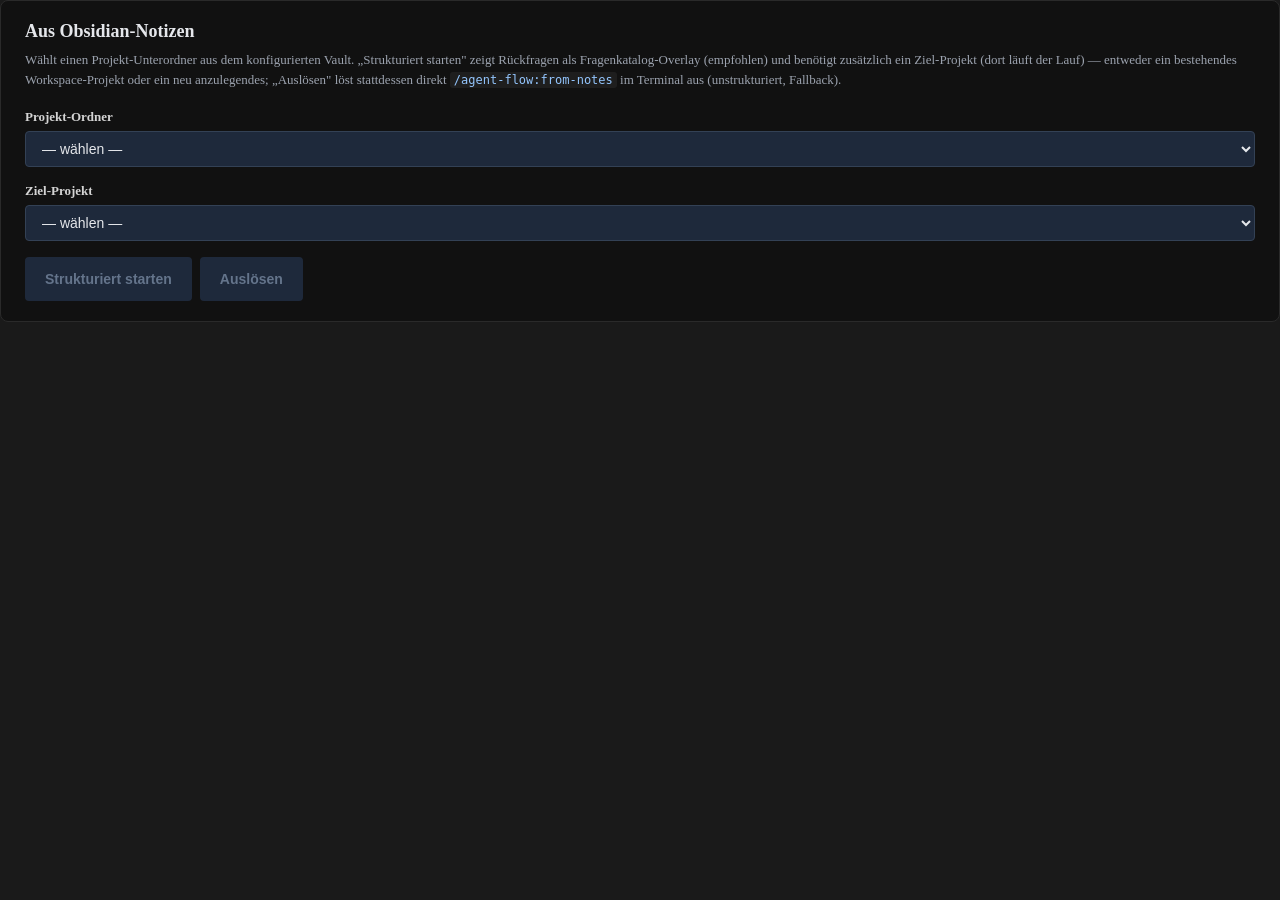
Test: obsidian-question-catalog v3 AC15 — Anlage-/Existenz-Statusanzeige vor dem Ingest-Start › bestehendes Ziel gewählt → Klick öffnet das Overlay DIREKT, kein POST an .../ensure-target
Select "mein-projekt" in the dropdown labelled "Projekt-Ordner": [640, 149] box [25,131,1255,167]
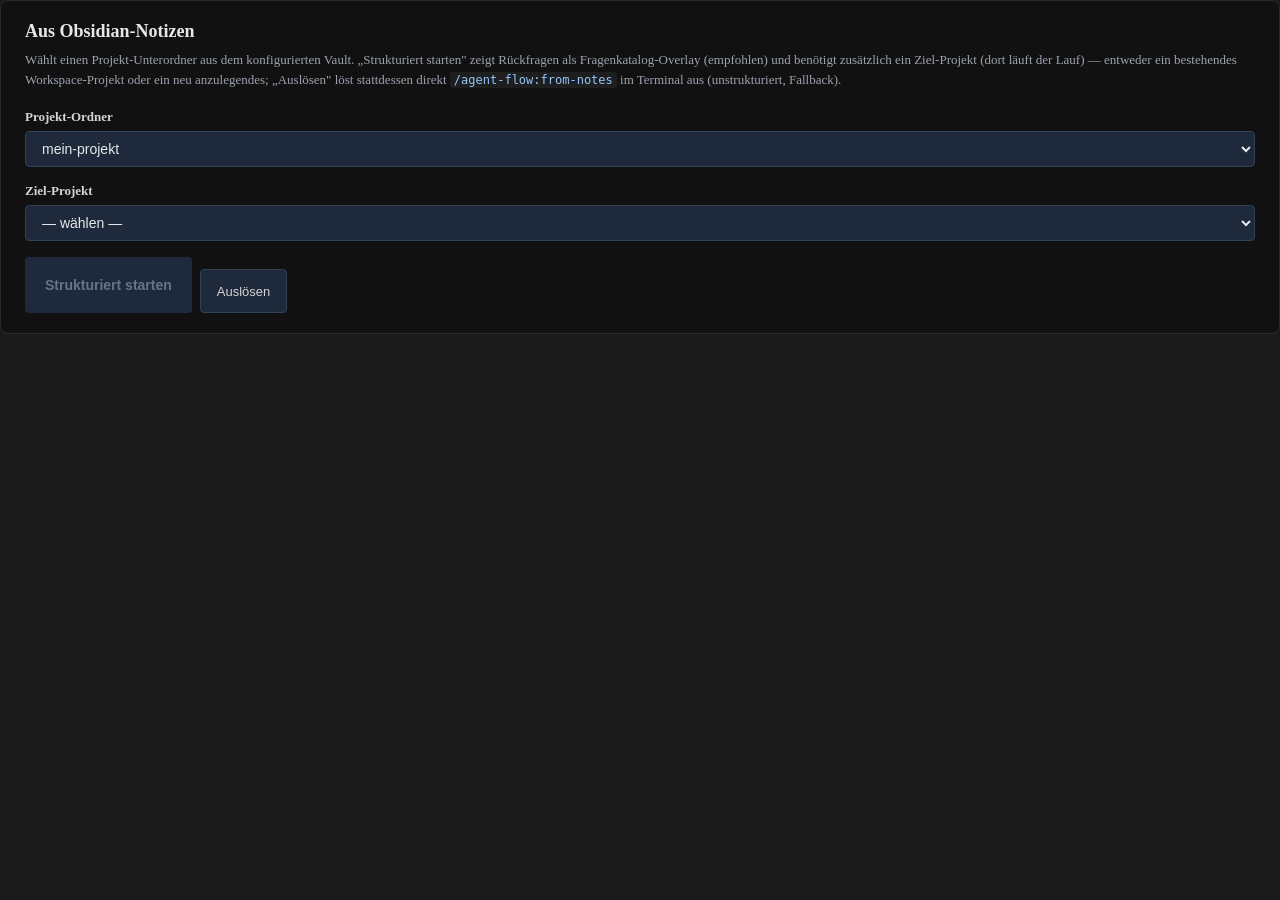
Select "ziel-repo-a" in the dropdown labelled "Ziel-Projekt": [640, 223] box [25,205,1255,241]
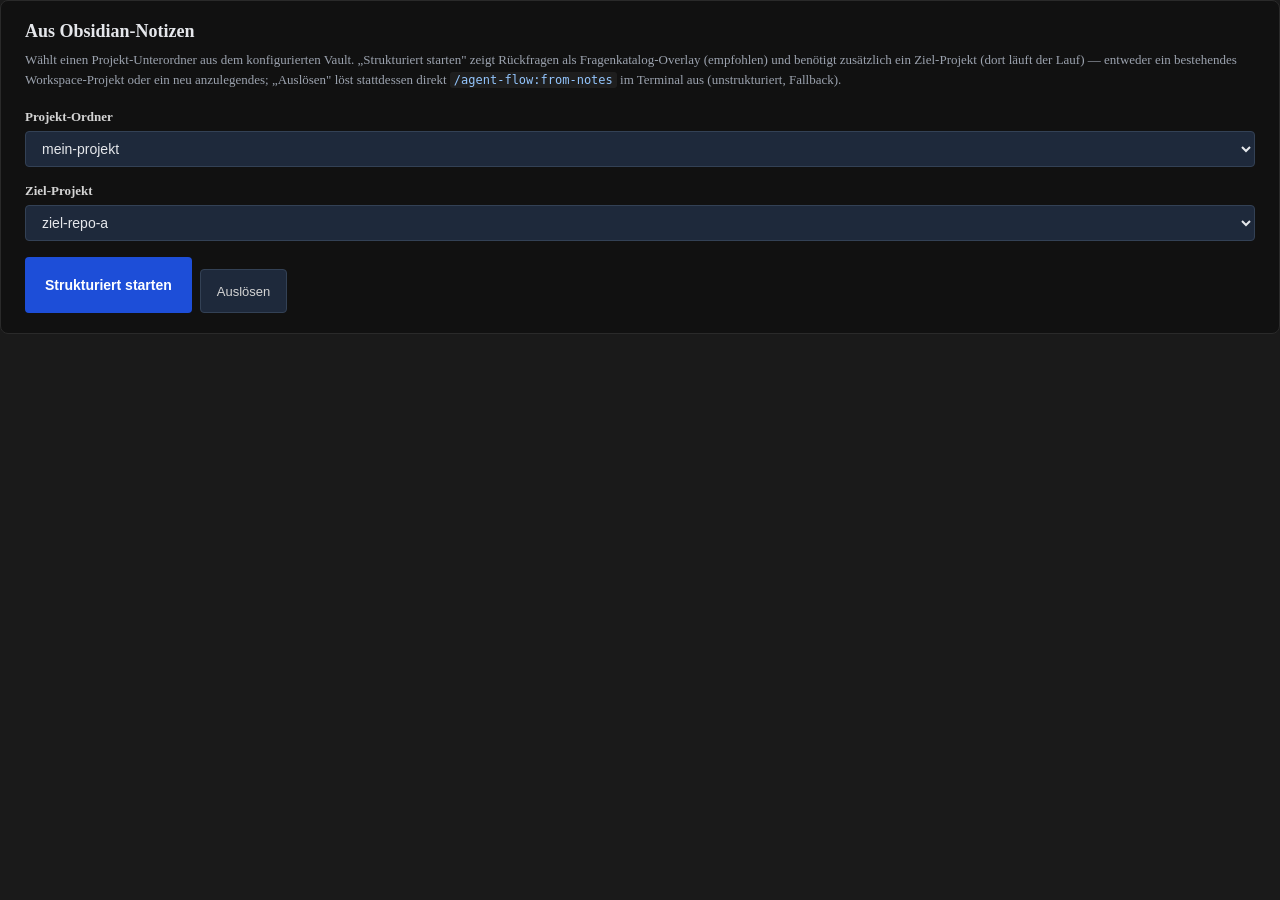
Result: the button "Strukturiert starten" is enabled
Click the button "Strukturiert starten": [108, 285] box [25,257,192,313]
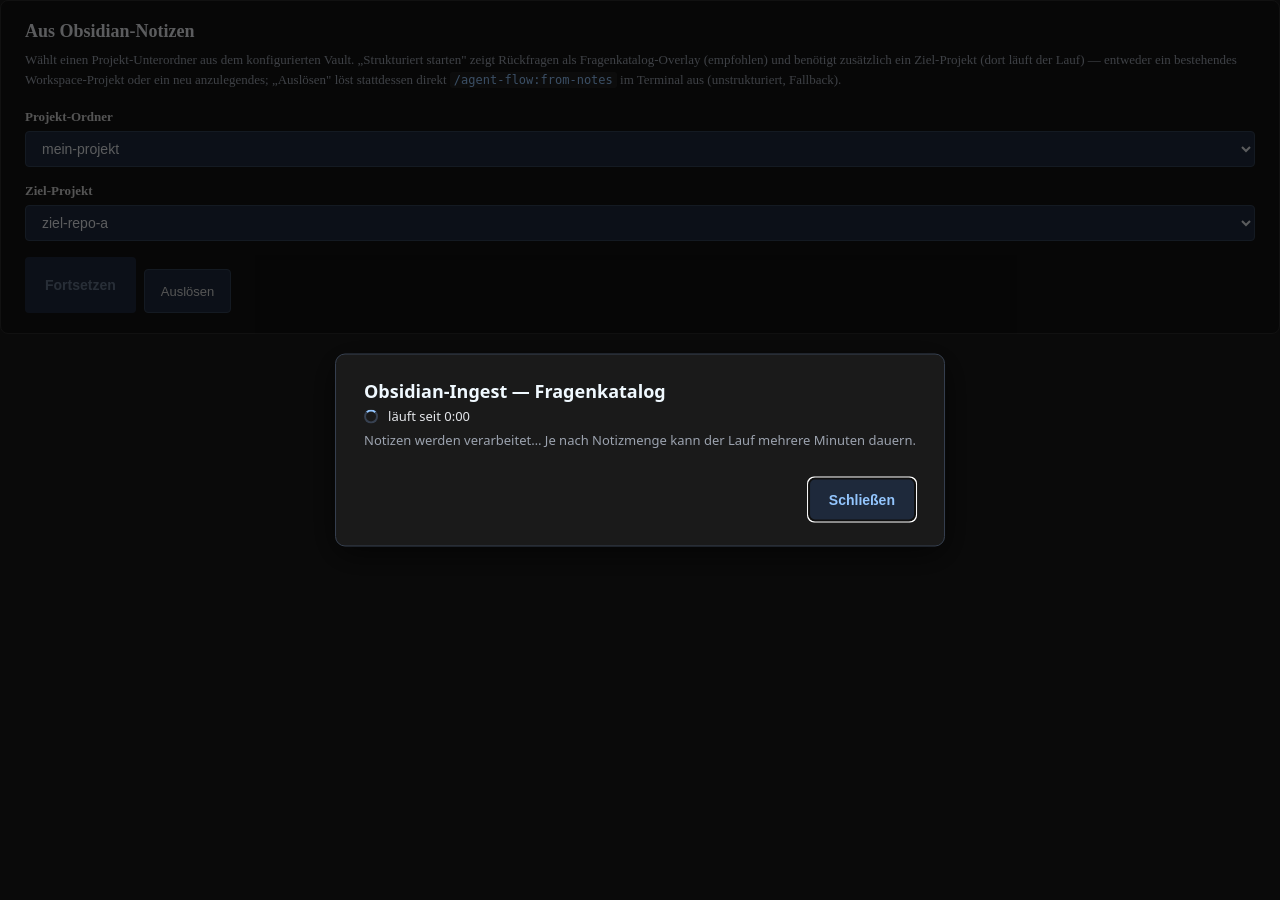
Result: the dialog with test id "obsidian-ingest-overlay" is shown at [335,354,945,546]
